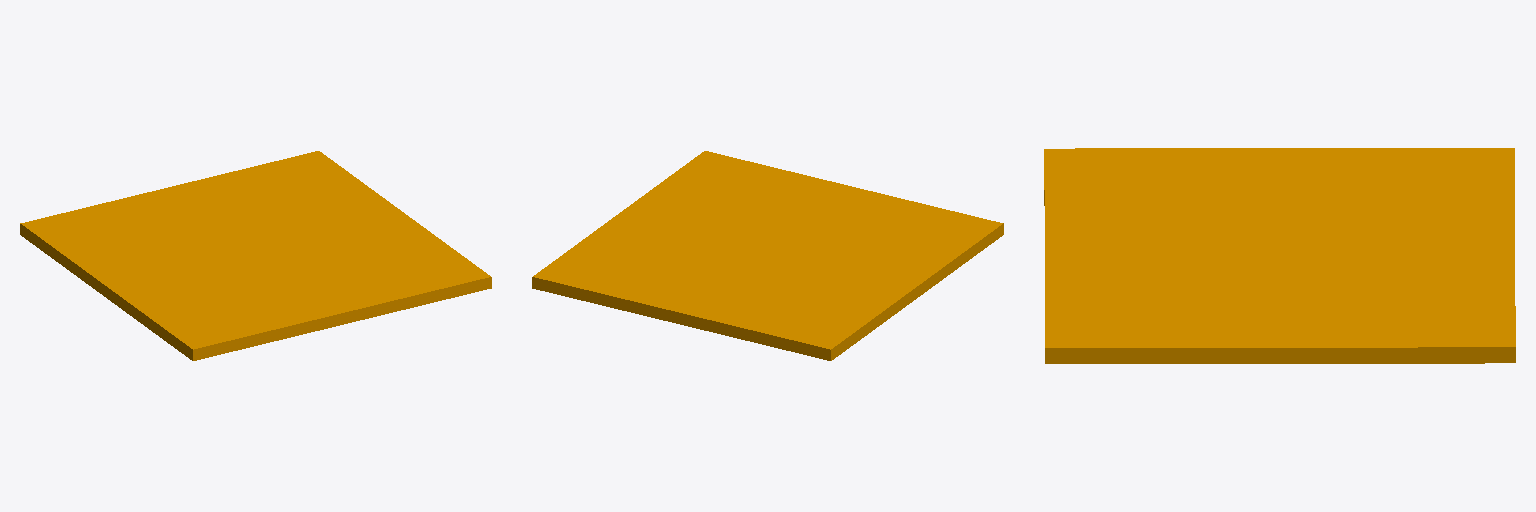
The robot description file, URDF, robot "Board":
<?xml version="1.0" encoding="utf-8"?>
<robot name="Board">
  <link name="board_body">
    <contact>
      <lateral_friction value="1.0"/>
    </contact>
    <inertial>
      <mass value="2.674"/>
      <origin xyz="0.00 0.00 -0.01" rpy="0 0 0"/>
      <inertia ixx="0.058" ixy="0.00" ixz="0.00" iyy="0.058" iyz="0.00" izz="0.115"/>
    </inertial>
    <collision>
      <origin rpy="0 0 1.571" xyz="0 0 -0.0095"/>
      <geometry>
        <box size="0.508 0.508 0.019"/>
      </geometry>
    </collision>
    <visual>
      <origin rpy="0 0 1.571"/>
      <geometry>
        <!-- <mesh filename="simpleBoard.obj"/> -->
        <mesh filename="SimpleBoardT.obj"/>
      </geometry>
    </visual>
  </link>
</robot>

--- Facts derived from the render (not from the file) ---
3 views of the same robot in one strip: view 1: azimuth 30°, elevation 25°; view 2: azimuth 150°, elevation 25°; view 3: azimuth 270°, elevation 25° (orthographic).
Robot: Board — 1 links, 0 joints (none); root link board_body; default pose: all joints at 0.
Links seen in each view (by area): view 1: board_body; view 2: board_body; view 3: board_body.
Boxes of the visible links, left/top/right/bottom form: board_body: left=20, top=151, right=491, bottom=360; board_body: left=532, top=151, right=1003, bottom=360; board_body: left=1044, top=148, right=1515, bottom=363.
Size in the robot's own frame: 0.5081 by 0.5081 by 0.0191 metres.
1 mesh visuals loaded from 1 distinct referenced files (1 OBJ).